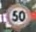limite 50: (6, 2, 31, 27)
